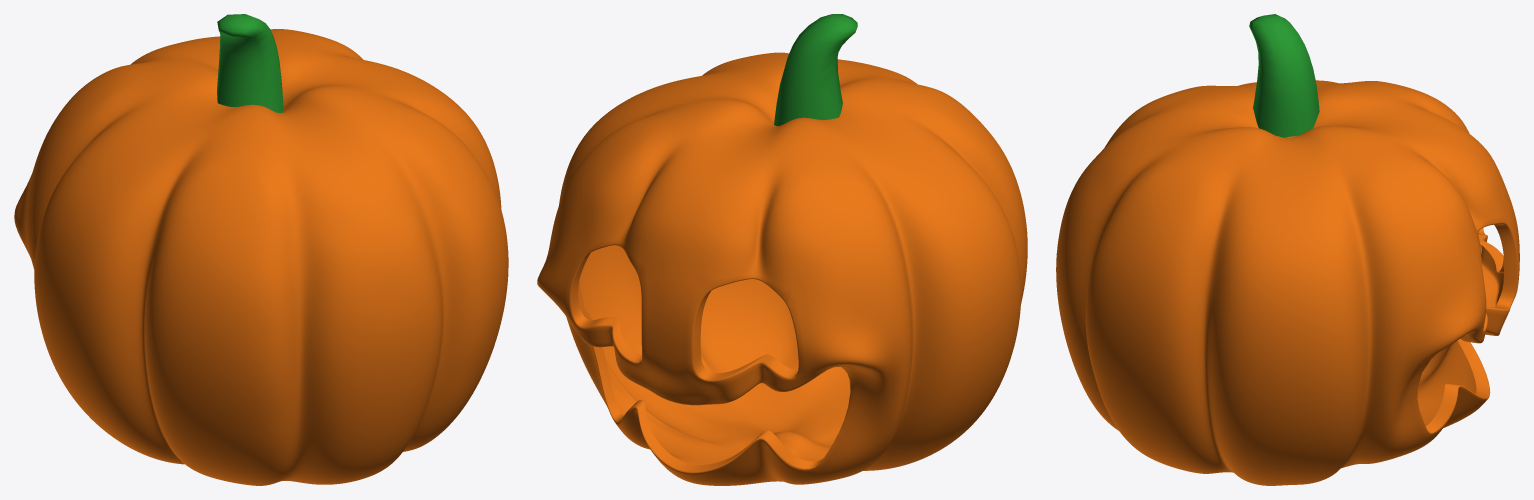
Rendered from тыква.fbx.
The picture shows the model from 3 angles, left to right: view 1: azimuth 30°, elevation 25°; view 2: azimuth 150°, elevation 25°; view 3: azimuth 270°, elevation 25°; orthographic projection. The views are drawn at different scales.
Parts seen in each view (by area): view 1: Cube; view 2: Cube; view 3: Cube.
Part boxes in pixels (x1,y1,x2,y2): Cube: (14, 14, 508, 485); Cube: (537, 14, 1027, 485); Cube: (1056, 14, 1519, 485).
Size of the model in its own units: 302 by 294 by 301.
